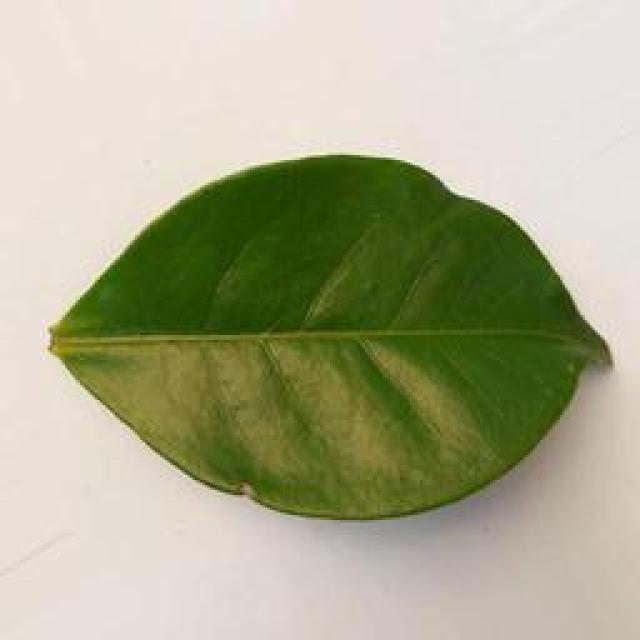Healthy: (45, 147, 619, 527)
